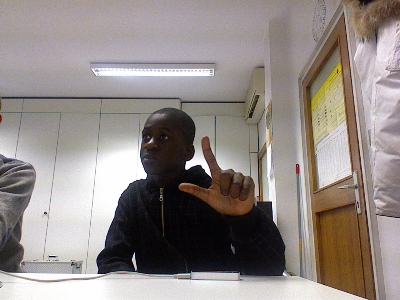枪: (176, 134, 256, 218)
